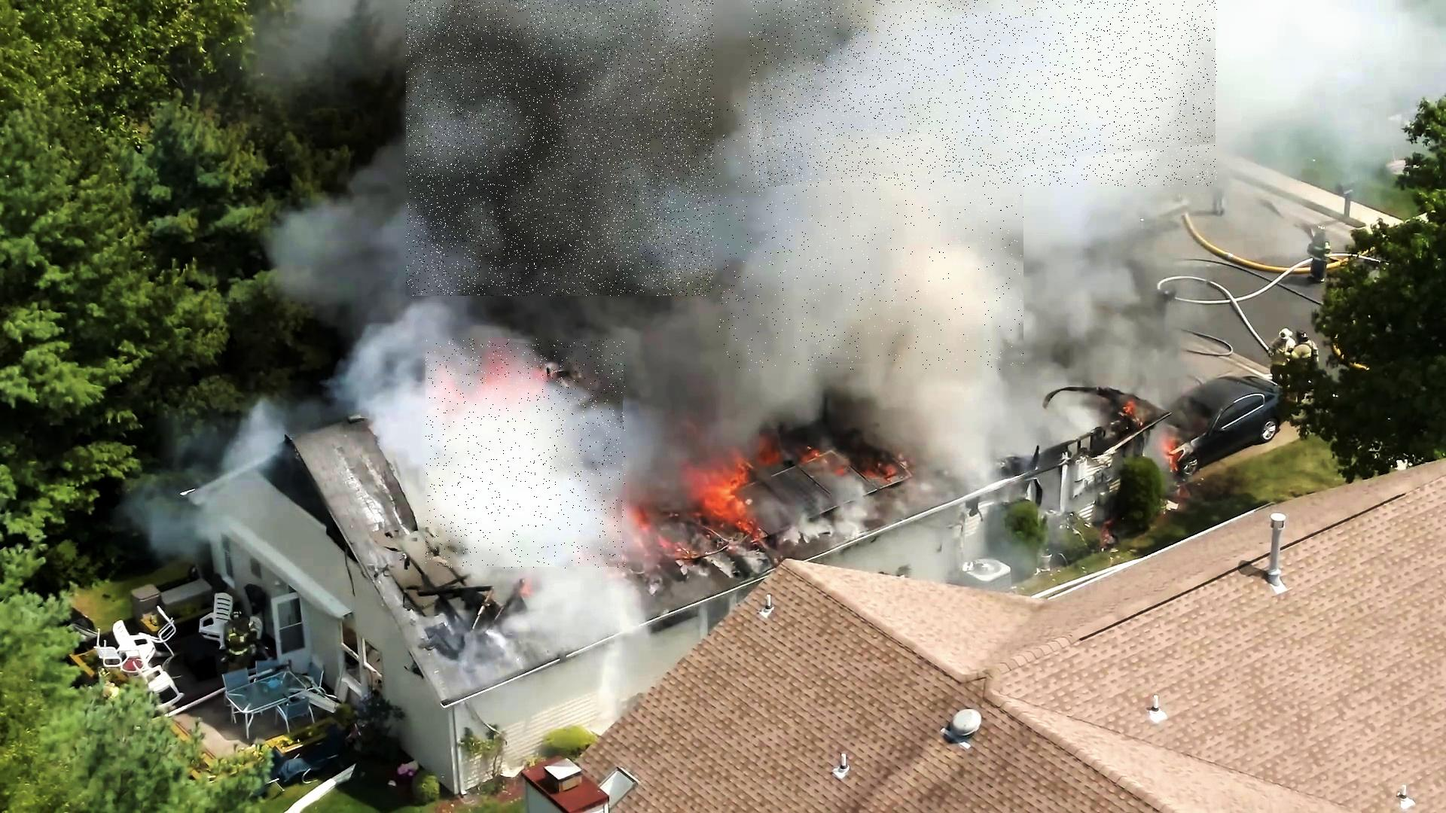smoke: (406, 0, 714, 296), (750, 0, 1218, 187), (716, 102, 1024, 371), (426, 339, 626, 569)
